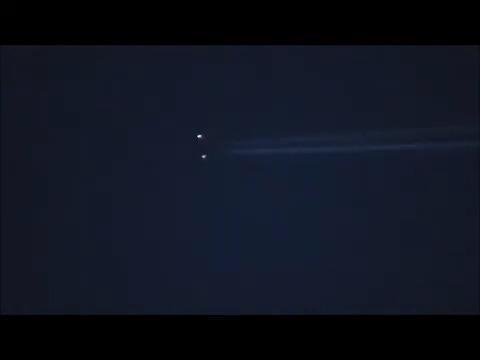Plane: (155, 114, 479, 178)
